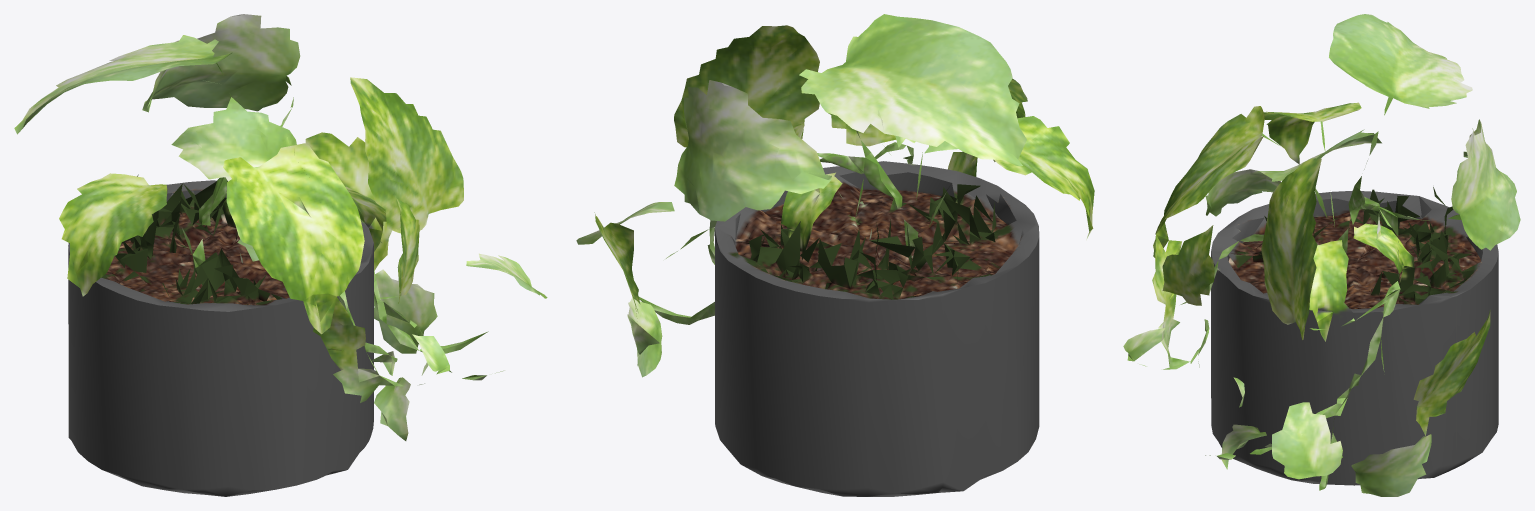
File: plant_pothos.glb
3 views of the same model, side by side, from view 1: azimuth 30°, elevation 25°; view 2: azimuth 150°, elevation 25°; view 3: azimuth 270°, elevation 25° (orthographic). The views are drawn at different scales.
Visible parts, largest first — view 1: mesh; view 2: mesh; view 3: mesh.
Part boxes in pixels (<box>): mesh: <box>14,14,547,496</box>; mesh: <box>576,14,1094,496</box>; mesh: <box>1123,14,1520,496</box>.
Bounding box in the file's own units: 1.08 × 0.855 × 0.8381.
1 material, 1 textured.
